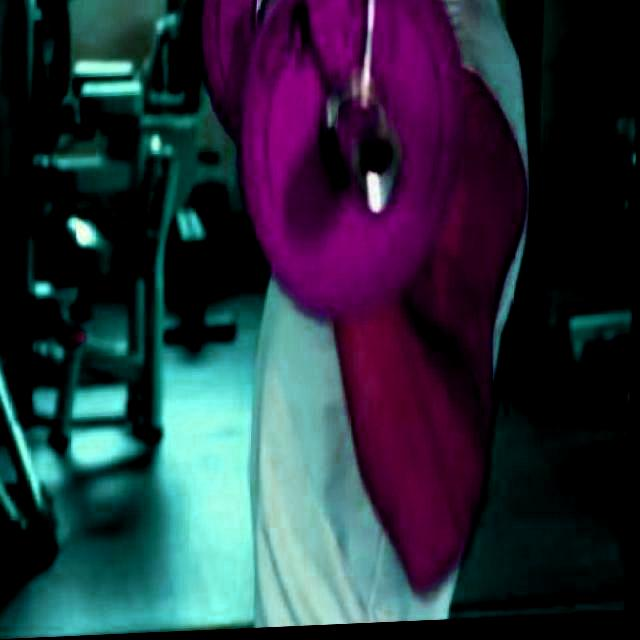barbell: (237, 1, 470, 325)
